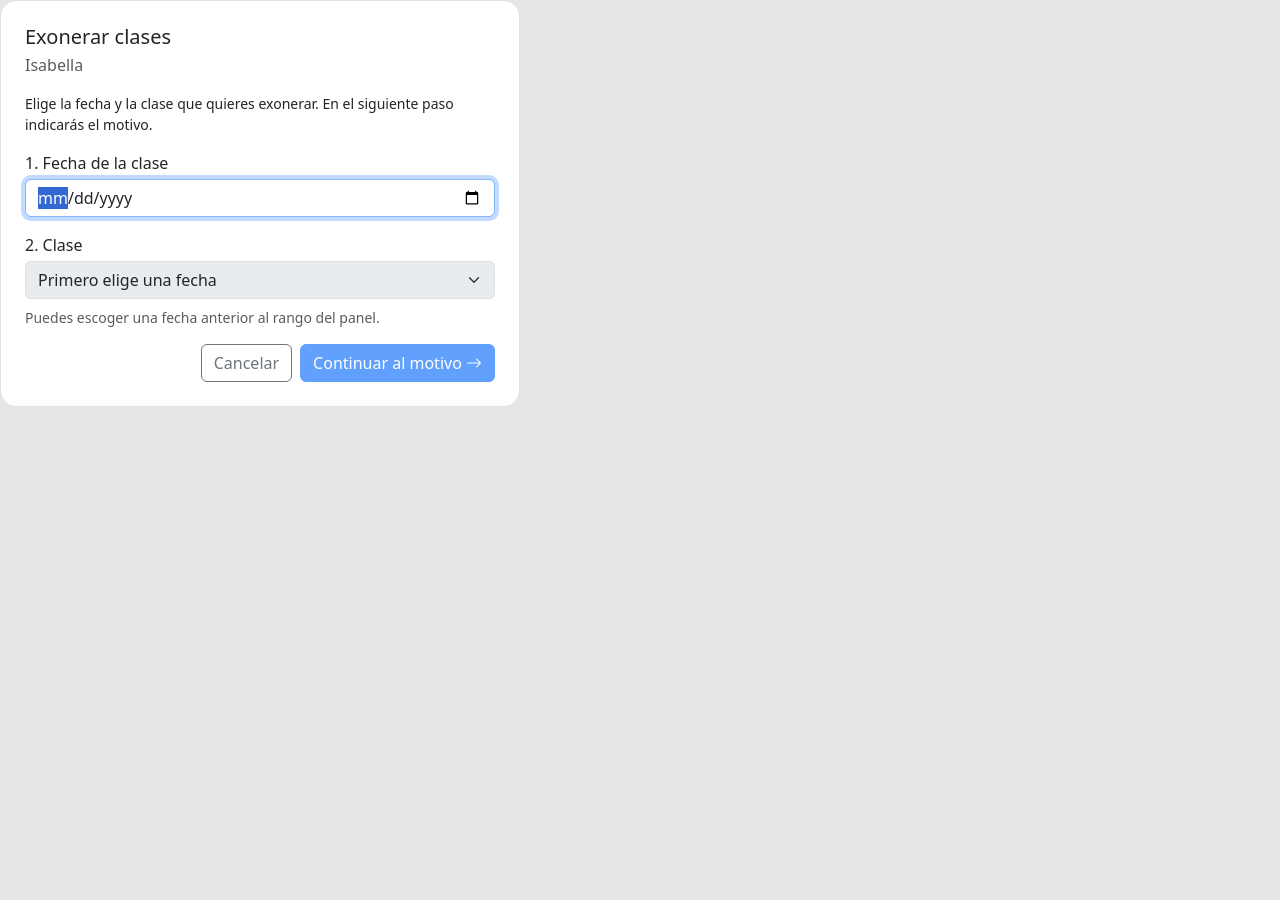
Test case: exonerar clases: fecha antes del motivo › explica una fecha sin clases y no permite continuar
Type "2026-09-27" into the date field named "fecha".
click(260, 198); type("2026-09-27")  # box [25,179,495,217]
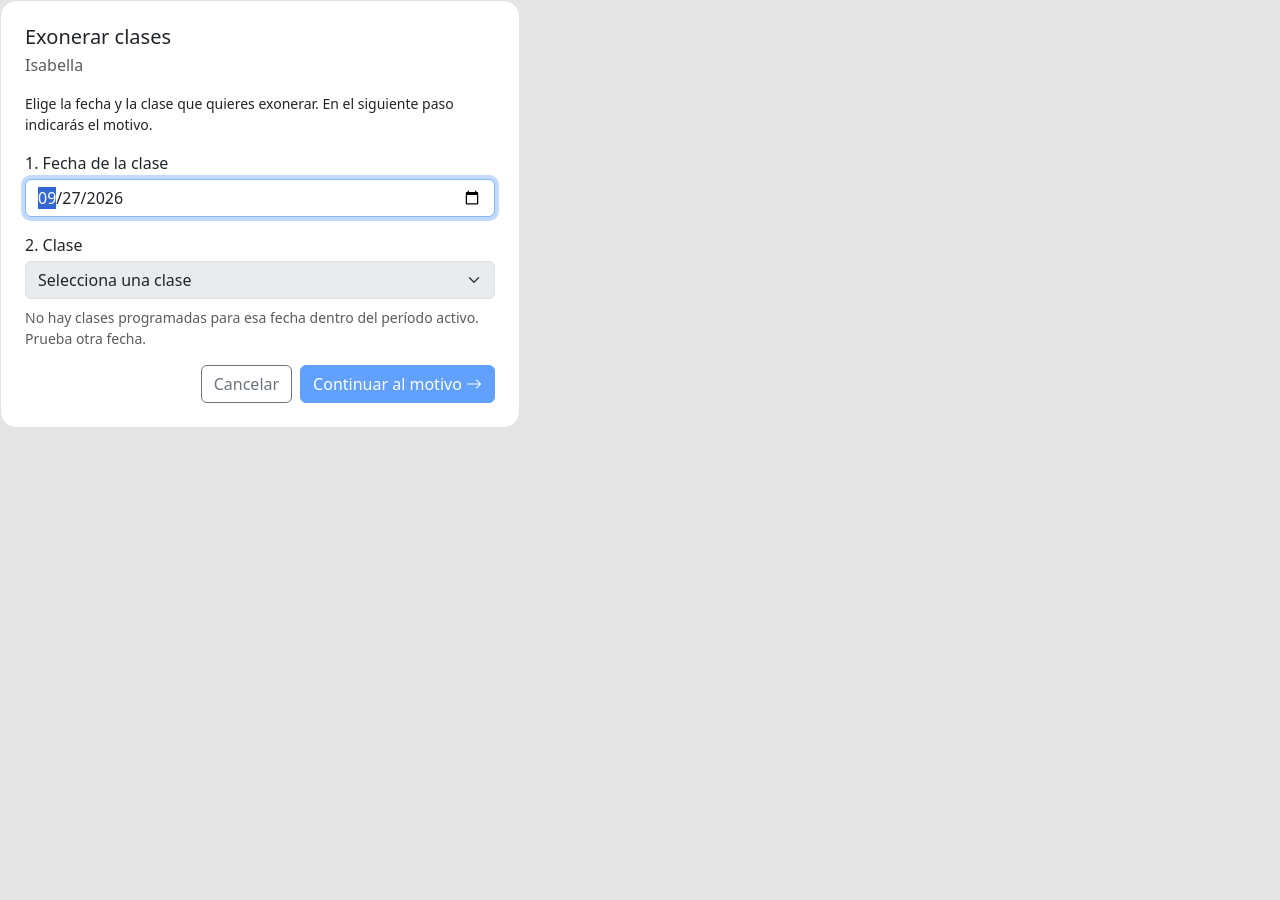
Expected: the button "Continuar al motivo" is disabled, [300,365,495,403]
Expected: the message shows "No hay clases", [25,308,479,348]
